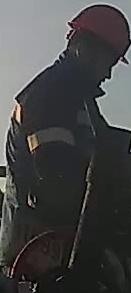helmet: (68, 4, 130, 68)
vest: (3, 79, 109, 263)
